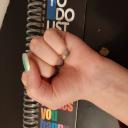Fist: (21, 25, 94, 112)
